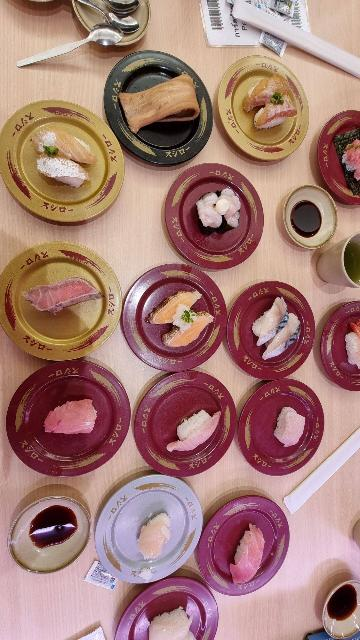janback: (103, 26, 222, 170)
jangold: (0, 249, 148, 343), (15, 99, 121, 220), (212, 64, 320, 158)
janred: (125, 367, 252, 484), (0, 352, 129, 466), (168, 161, 281, 264), (200, 491, 307, 590), (103, 582, 261, 640), (123, 269, 210, 365), (238, 389, 338, 472), (218, 292, 326, 361), (303, 308, 360, 403), (306, 110, 360, 200)
janwhite: (95, 471, 213, 577)
